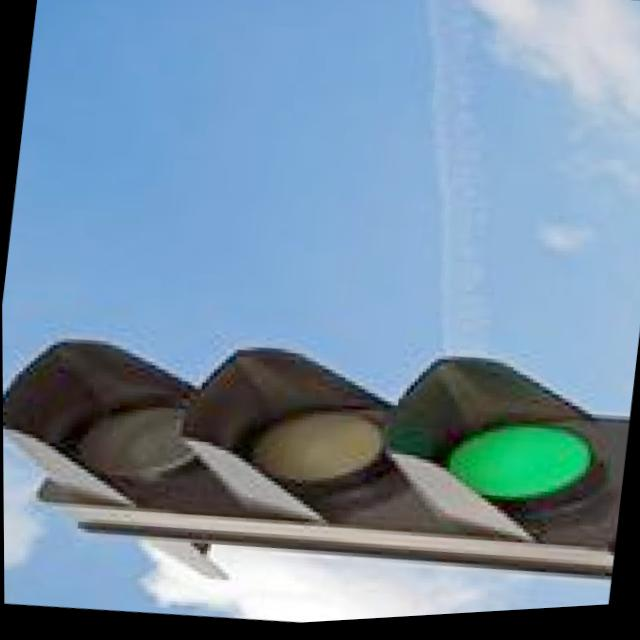green_light: (395, 366, 617, 591)
